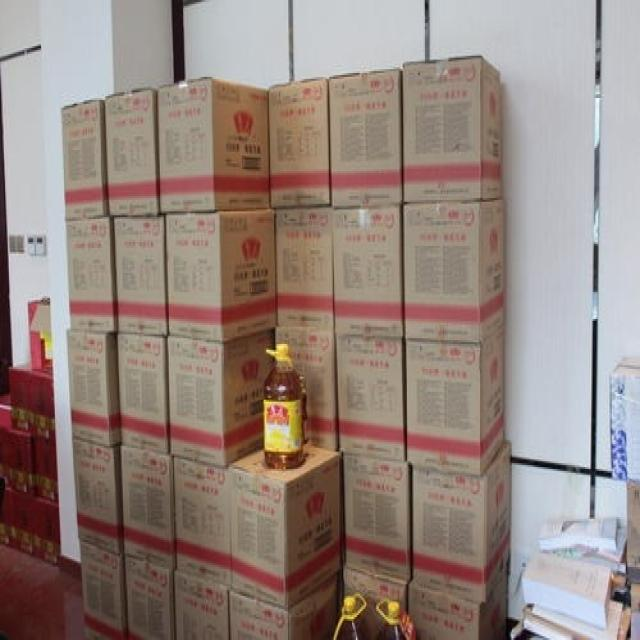box: (227, 446, 344, 608), (412, 442, 511, 601), (404, 324, 507, 474), (157, 77, 269, 214), (166, 328, 275, 468), (403, 195, 506, 343), (403, 56, 504, 204), (165, 209, 275, 341), (330, 68, 403, 205), (329, 205, 403, 337), (335, 332, 405, 462), (341, 455, 410, 580), (407, 559, 509, 638), (230, 567, 343, 638), (270, 76, 330, 207), (275, 328, 338, 450), (173, 456, 229, 586), (275, 207, 333, 331), (104, 89, 159, 217), (120, 448, 174, 569), (113, 217, 168, 335), (117, 334, 170, 454), (66, 329, 120, 445), (61, 99, 110, 221), (65, 219, 117, 332), (73, 439, 121, 554), (78, 542, 125, 638), (122, 555, 174, 638), (174, 571, 230, 638), (344, 568, 407, 627)
